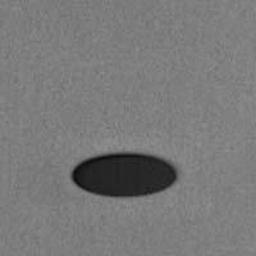Punching: (71, 153, 177, 197)
